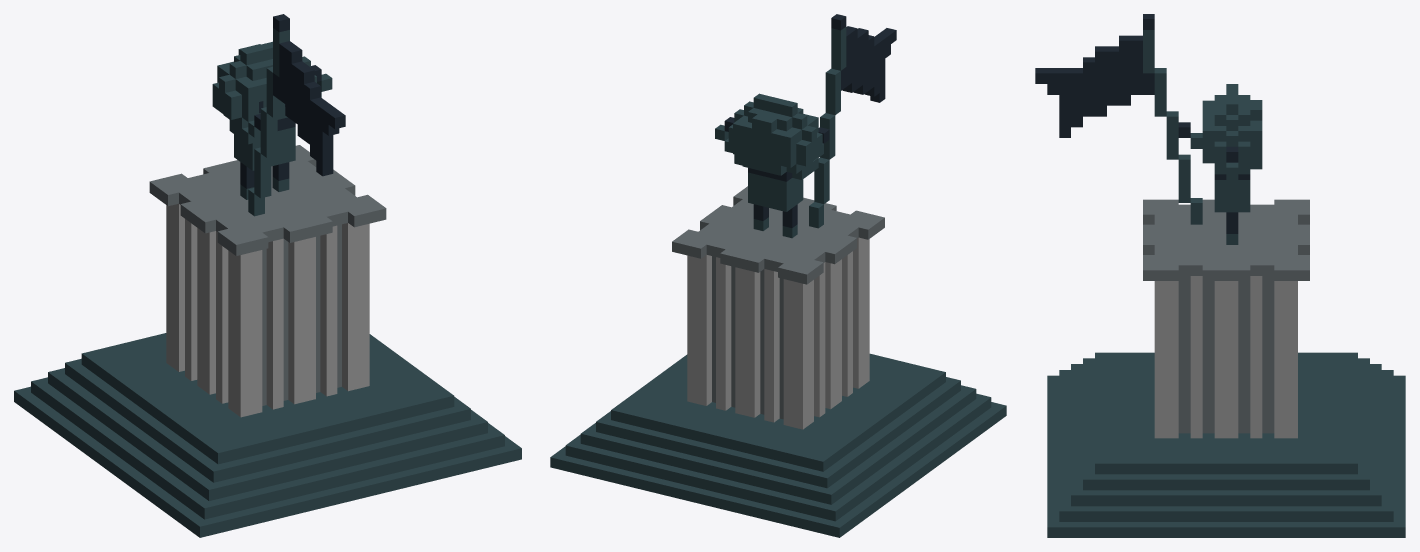
Rendered from statue_overtile.obj.
3 renders of one model, left to right at view 1: azimuth 30°, elevation 25°; view 2: azimuth 150°, elevation 25°; view 3: azimuth 270°, elevation 25°, orthographic. The views are drawn at different scales.
Bounding box in the file's own units: 3 × 4 × 3.1.
1 material, 1 textured.
